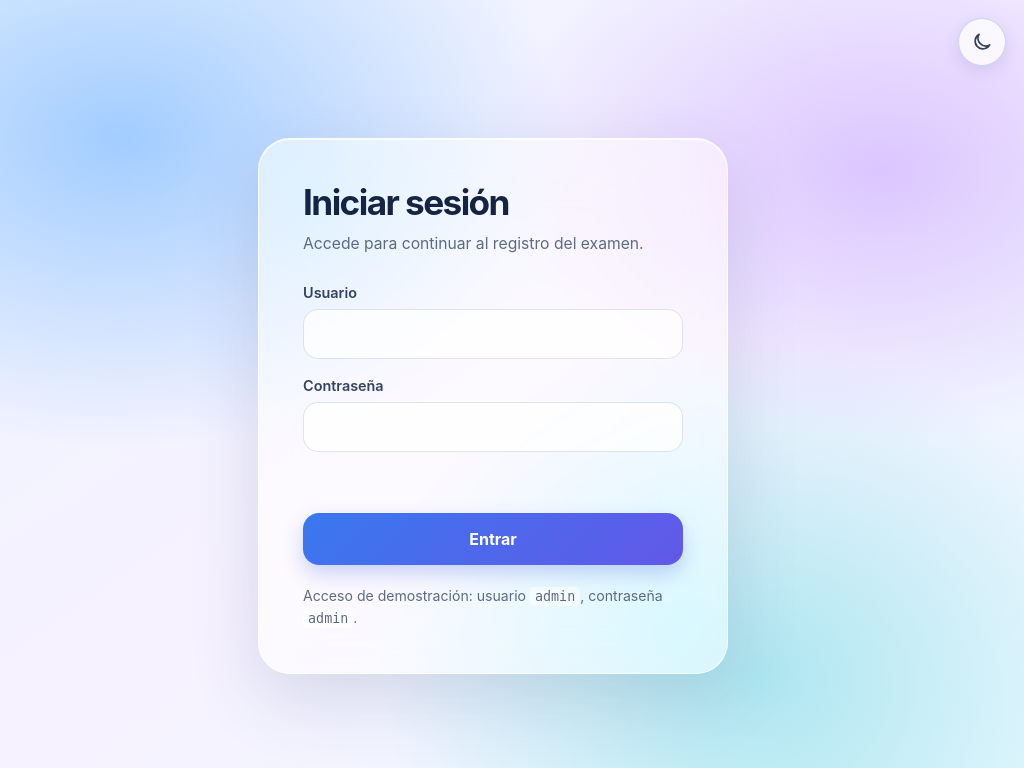
it: LoginPage › navigates to the credential error for usuario incorrecto
This screenshot has width=1024, height=768.
Type "wrong" into the field labelled "Usuario" at [493, 334], box [303,309,683,359]
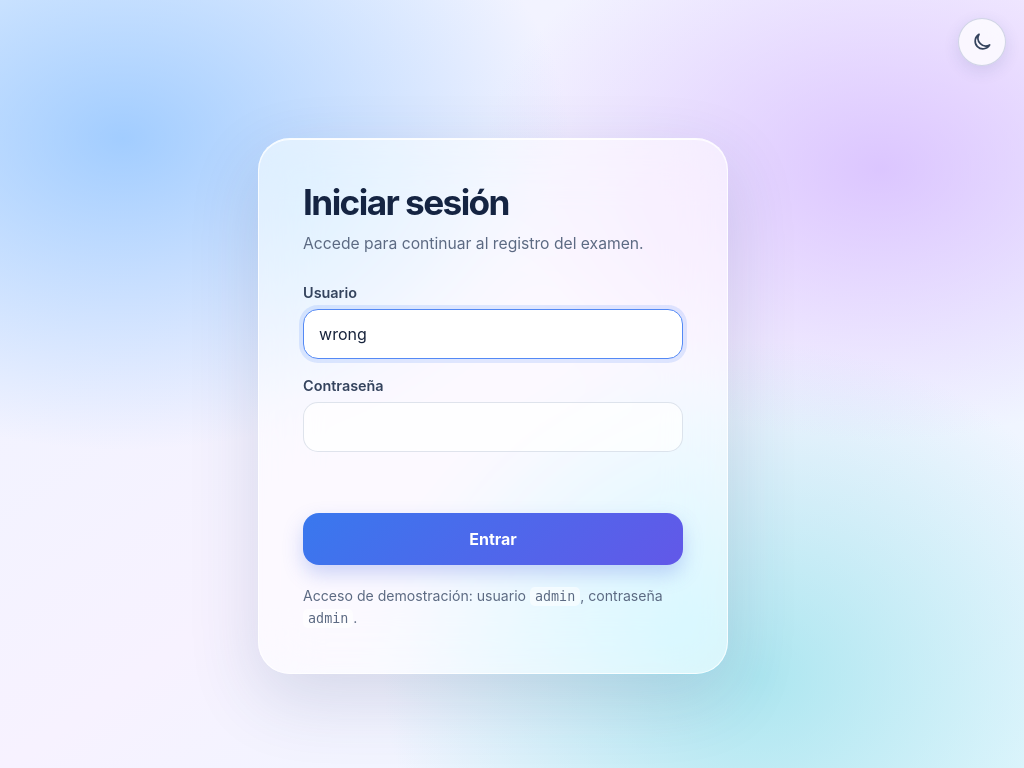
Type "admin" into the password field labelled "Contraseña" at [493, 427], box [303,402,683,452]
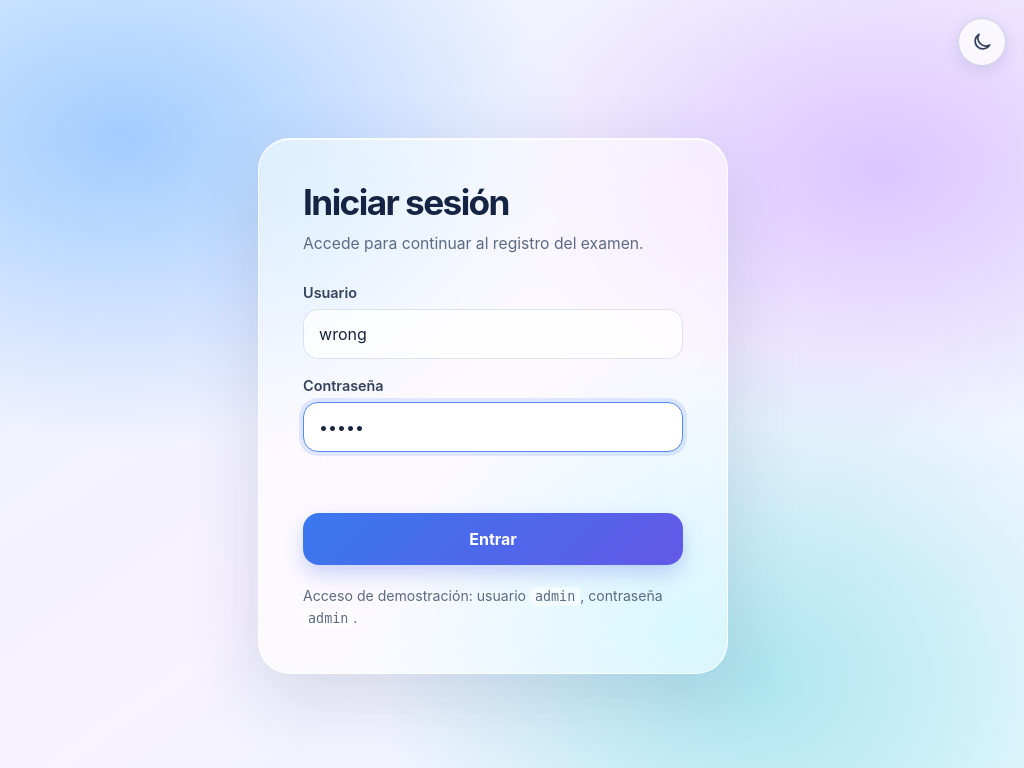
Click the button "Entrar" at [493, 539], box [303,513,683,565]
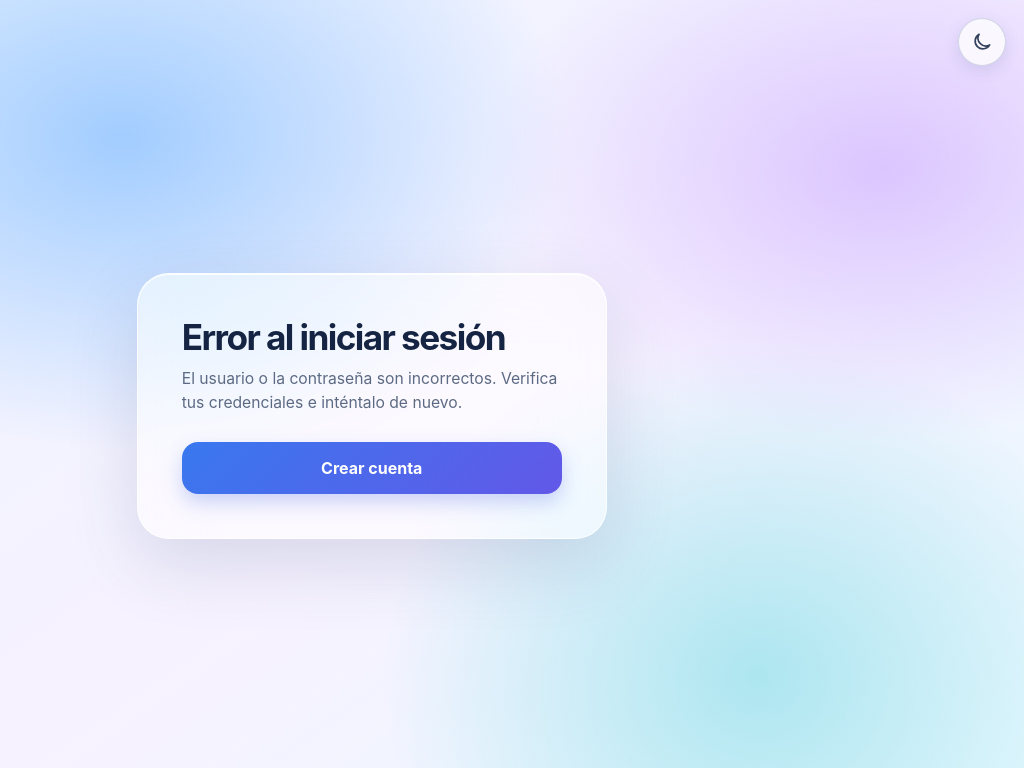
Result: the heading "Error al iniciar sesión" is shown at [182,318,562,357]
